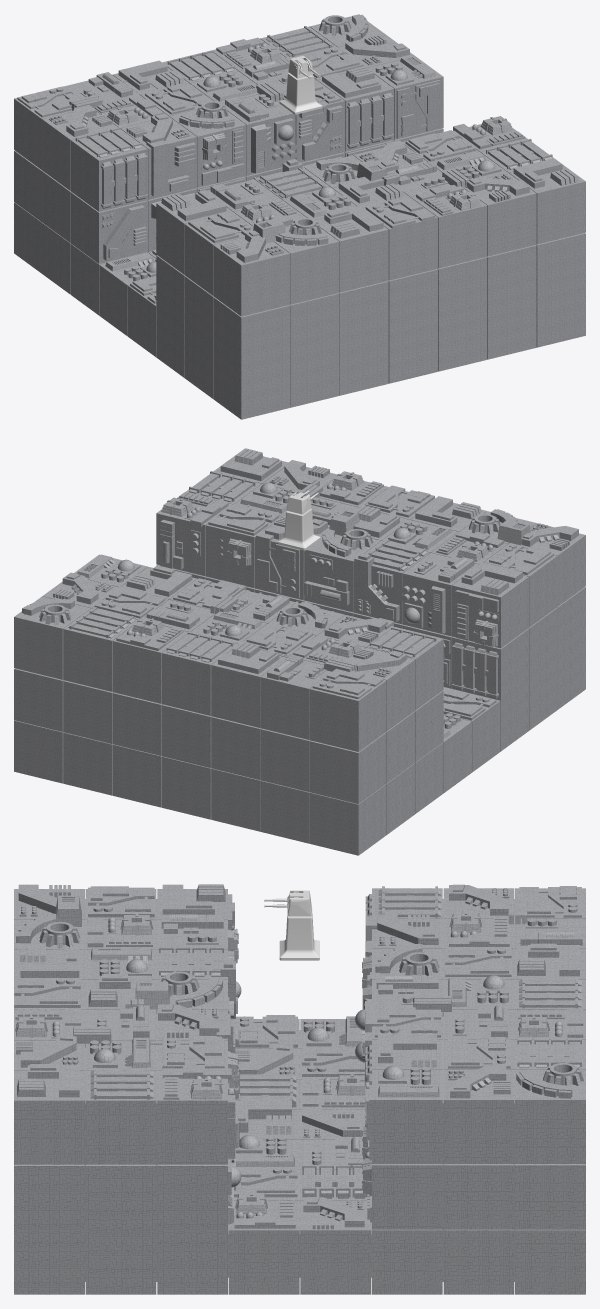
The model's file is trench.glb.
3 views of the same model, one above another, from view 1: azimuth 30°, elevation 25°; view 2: azimuth 150°, elevation 25°; view 3: azimuth 270°, elevation 25° (orthographic). The views are drawn at different scales.
Visible parts, largest first — view 1: DeathStarTrench.001, Body; view 2: DeathStarTrench.001, Body; view 3: DeathStarTrench.001, Body, HEAD.
Boxes of the visible parts, <box> form: DeathStarTrench.001: <box>14,14,585,419</box>; Body: <box>279,73,322,114</box>; DeathStarTrench.001: <box>14,448,585,855</box>; Body: <box>277,508,320,550</box>; DeathStarTrench.001: <box>14,884,585,1294</box>; Body: <box>279,908,319,960</box>; HEAD: <box>288,890,311,916</box>.
Bounding box in the file's own units: 24.71 × 16.05 × 28.25.
Materials: 3 (2 with a texture image).
